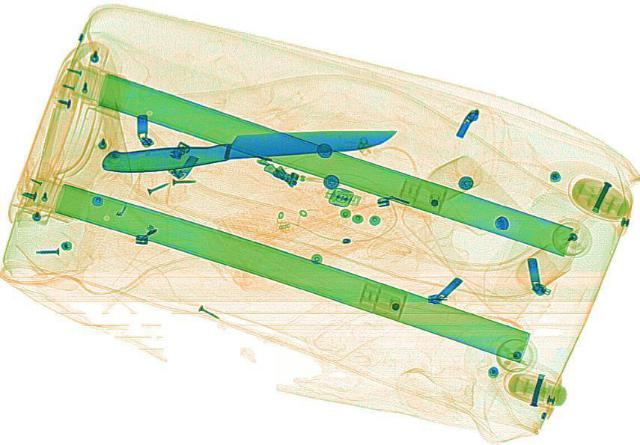Knife: (96, 122, 400, 173)
